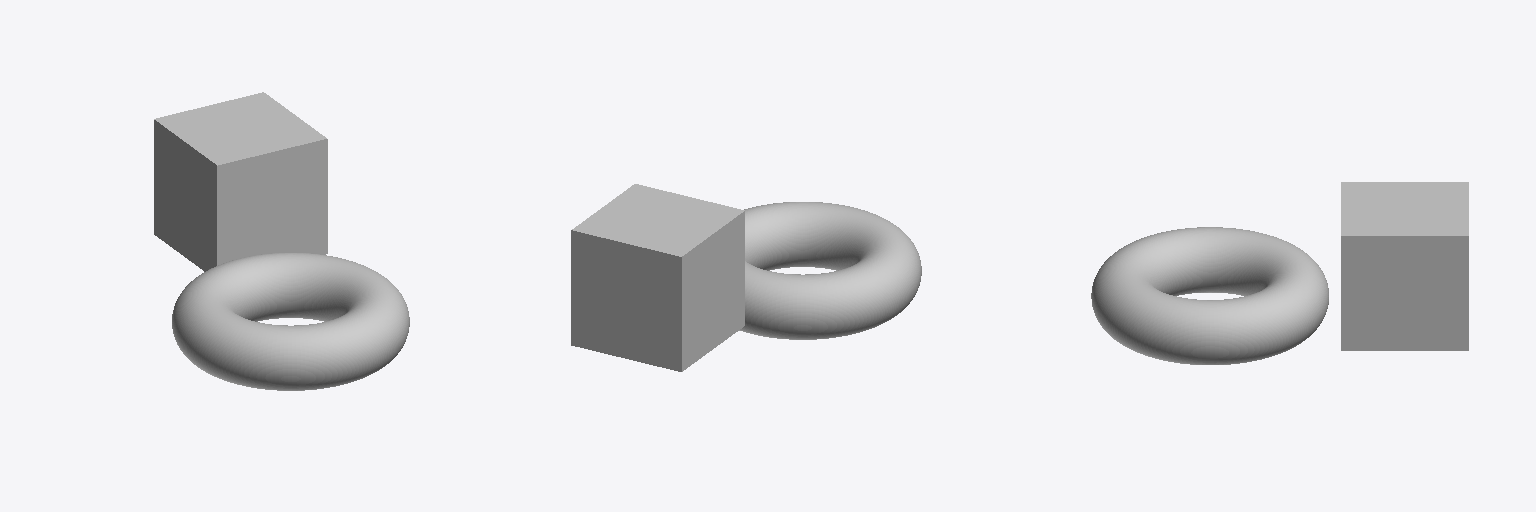
The model's file is testing.obj.
3 views of the same model, side by side, from view 1: azimuth 30°, elevation 25°; view 2: azimuth 150°, elevation 25°; view 3: azimuth 270°, elevation 25° (orthographic).
Visible parts, largest first — view 1: Torus, Cube_Cube.001; view 2: Cube_Cube.001, Torus; view 3: Torus, Cube_Cube.001.
Boxes of the visible parts, box(x1,y1,x2,y2) form: Torus: box(172, 253, 409, 390); Cube_Cube.001: box(154, 92, 327, 271); Cube_Cube.001: box(571, 184, 744, 371); Torus: box(739, 202, 921, 339); Torus: box(1091, 227, 1328, 364); Cube_Cube.001: box(1341, 182, 1468, 350).
Size of the model in its own units: 4 by 2.59 by 6.34.